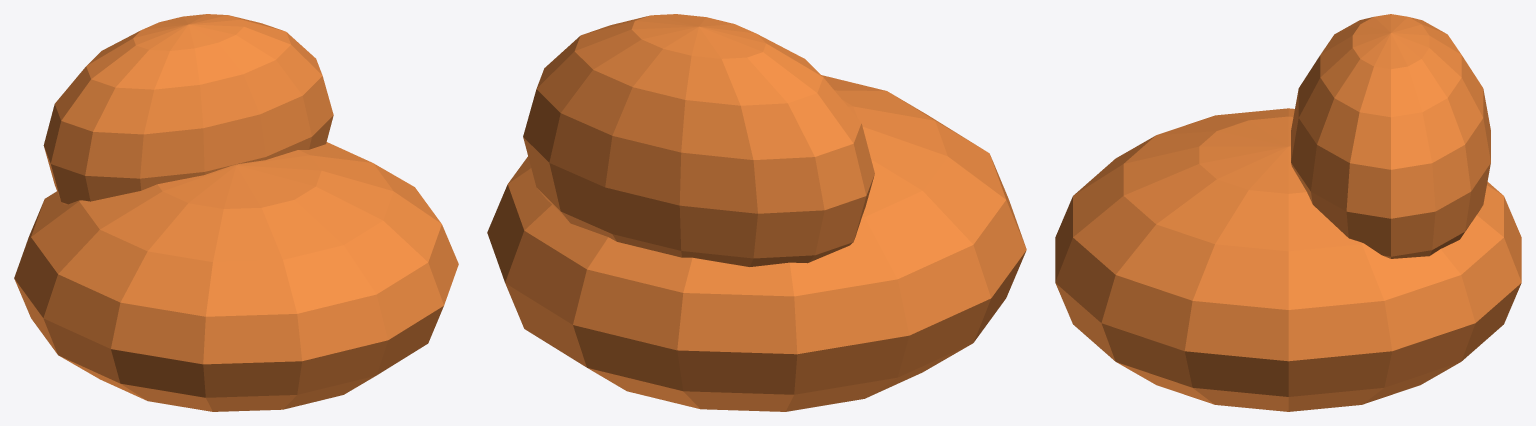
The model's file is beanbag.obj.
3 renders of one model, left to right at view 1: azimuth 30°, elevation 25°; view 2: azimuth 150°, elevation 25°; view 3: azimuth 270°, elevation 25°, orthographic. The views are drawn at different scales.
Parts seen in each view (by area): view 1: beanbag; view 2: beanbag; view 3: beanbag.
Part boxes in pixels (bbox=[...]): beanbag: bbox=[14, 14, 458, 411]; beanbag: bbox=[487, 14, 1026, 411]; beanbag: bbox=[1055, 14, 1521, 411].
Bounding box in the file's own units: 0.84 × 0.66 × 0.819.
